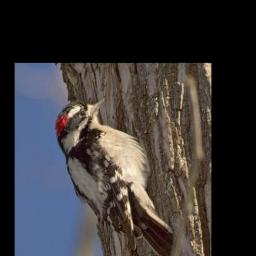Woodpecker: (54, 97, 174, 256)
